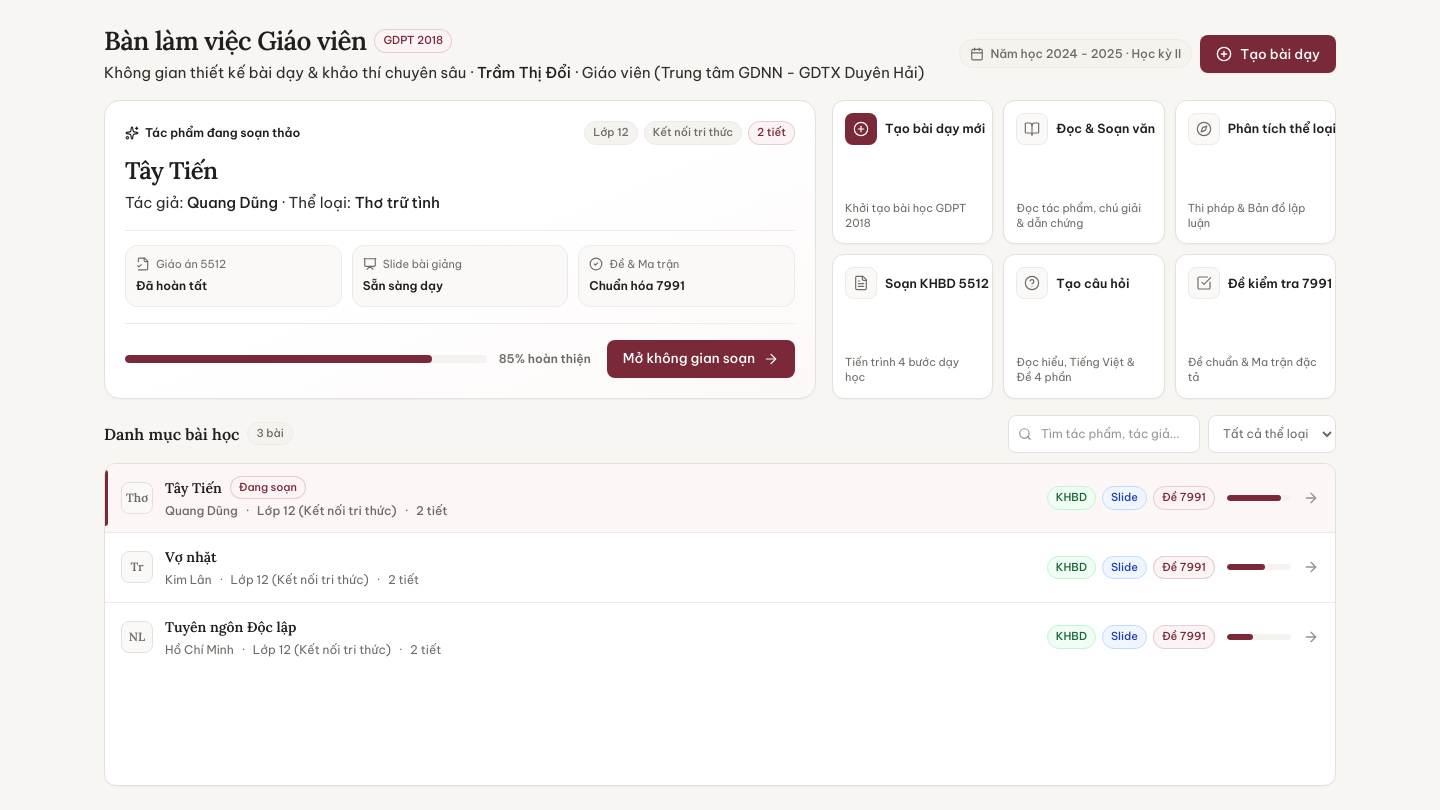
Test: Functional: TeacherDashboard & Lesson Lifecycle › Create Lesson Modal & Validation Flow › closes modal when clicking close (Hủy bỏ) button without saving
Note: Open modal
Click the button "Tạo bài dạy" at (1268, 54), box x1=1200 y1=35 x2=1336 y2=73
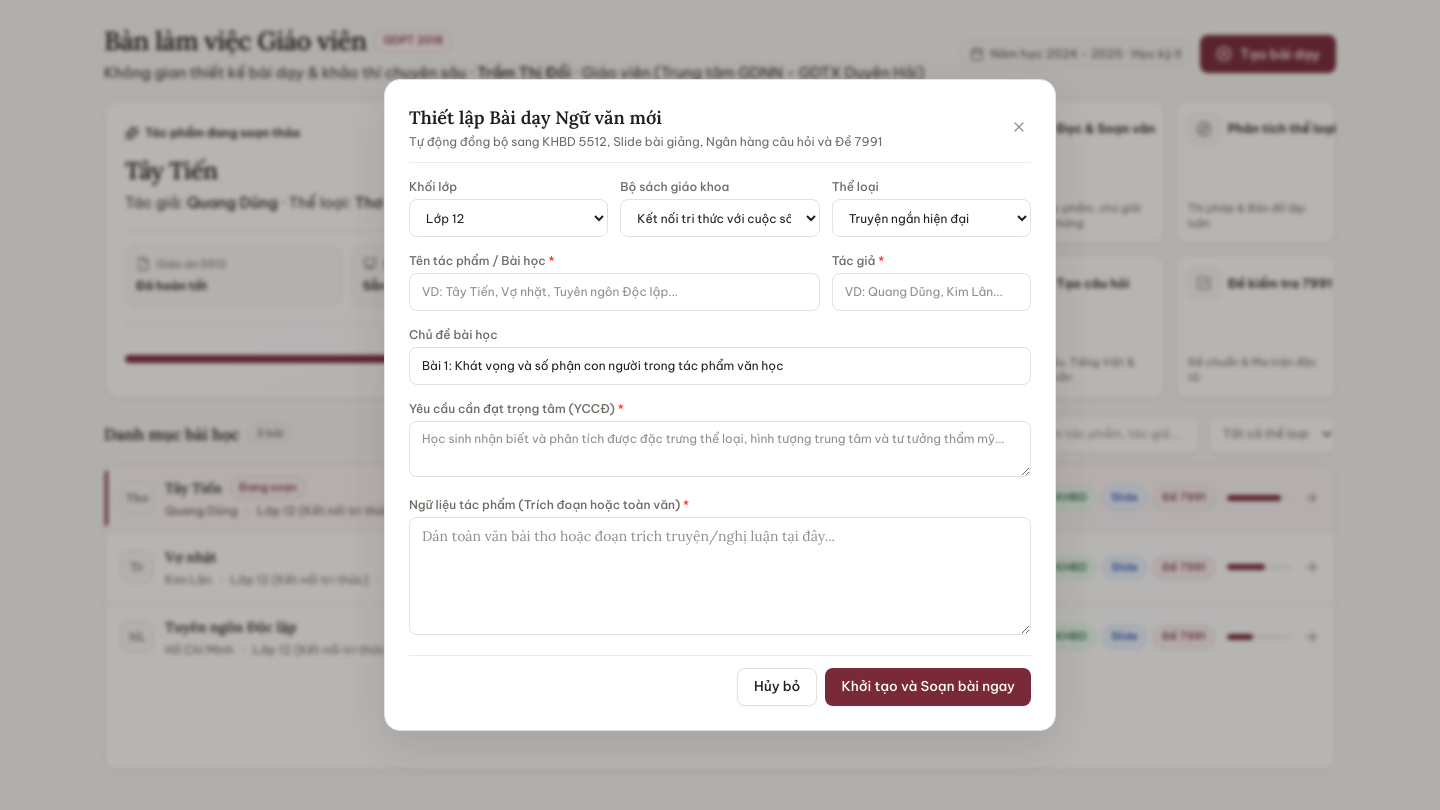
Result: the heading "Thiết lập Bài dạy Ngữ văn mới" is shown at x1=409 y1=106 x2=662 y2=129
Note: Click cancel button
Click the button "Hủy bỏ" at (777, 687), box x1=737 y1=668 x2=818 y2=706
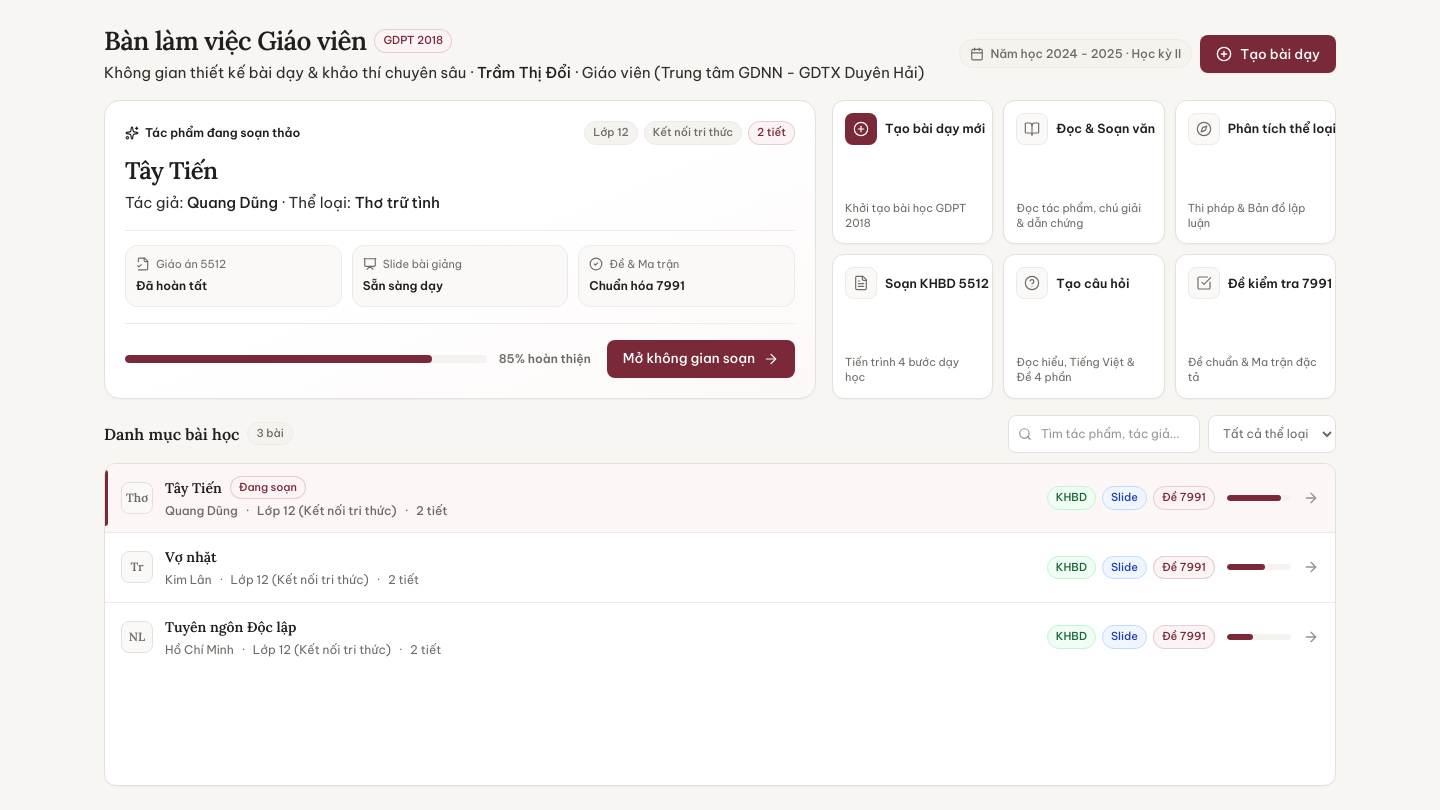
Result: the heading "Thiết lập Bài dạy Ngữ văn mới" is gone
